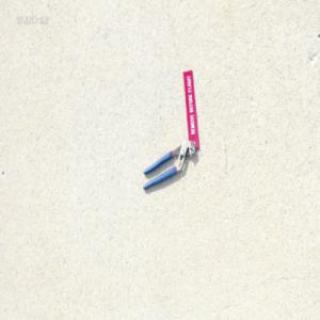LuggageTagtrack_idkeyframe: (182, 70, 200, 149)
Pliertrack_idkeyframe: (141, 138, 195, 190)
